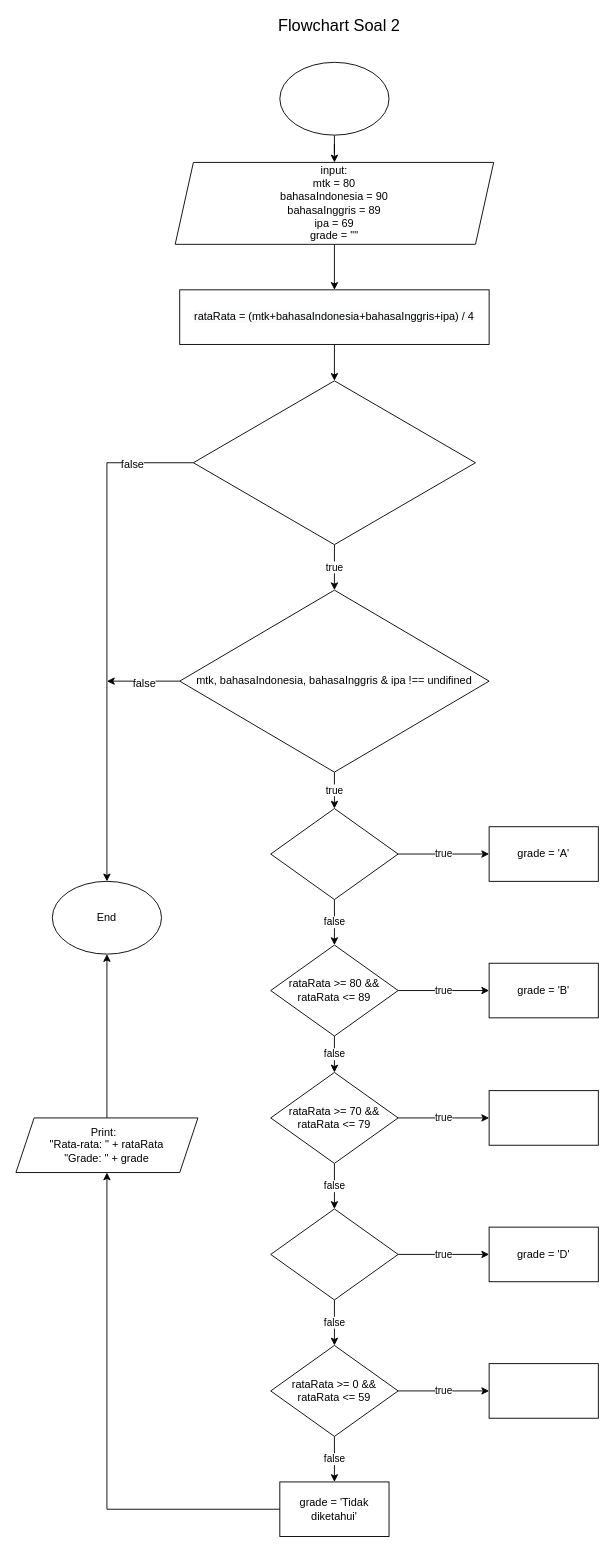
The diagram is 614 pixels wide and 1552 high, and some of its shapes have lost their labels. The shapes that lost their labels are listed below. From the top down, each one's centre as x and y in pixels, then its label:
At point 334,98: "Start".
At point 333,462: "mtk, bahasaIndonesia , bahasaInggris & ipa !== null".
At point 334,854: "rataRata >= 90 && rataRata <= 100".
At point 543,1117: "grade = 'C'".
At point 334,1254: "rataRata >= 60 && rataRata <= 69".
At point 543,1390: "grade = 'E'".
